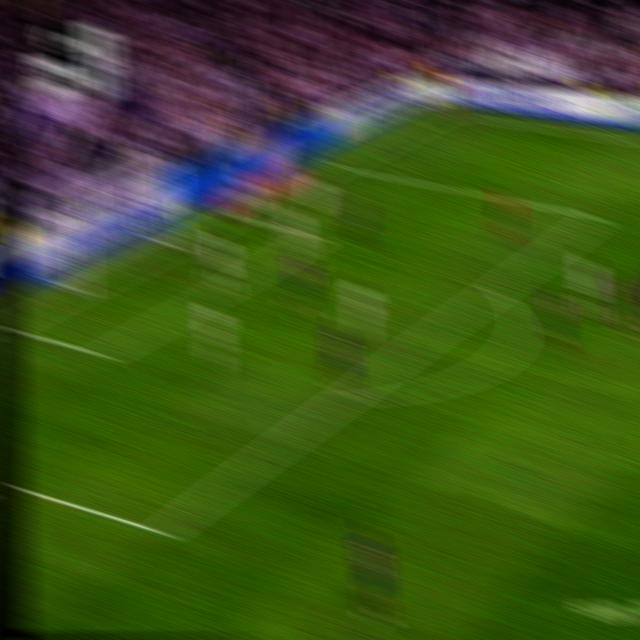bigarea_bottom_inner: (149, 513, 176, 550)
bigarea_top_inner: (587, 202, 610, 228)
bigarea_top_outter: (328, 156, 347, 174)
bottom_arc_area_intersection: (335, 385, 358, 409)
corner: (431, 104, 454, 118)
smallarea_bottom_inner: (93, 340, 116, 368)
top_arc_area_intersection: (484, 277, 507, 302)
